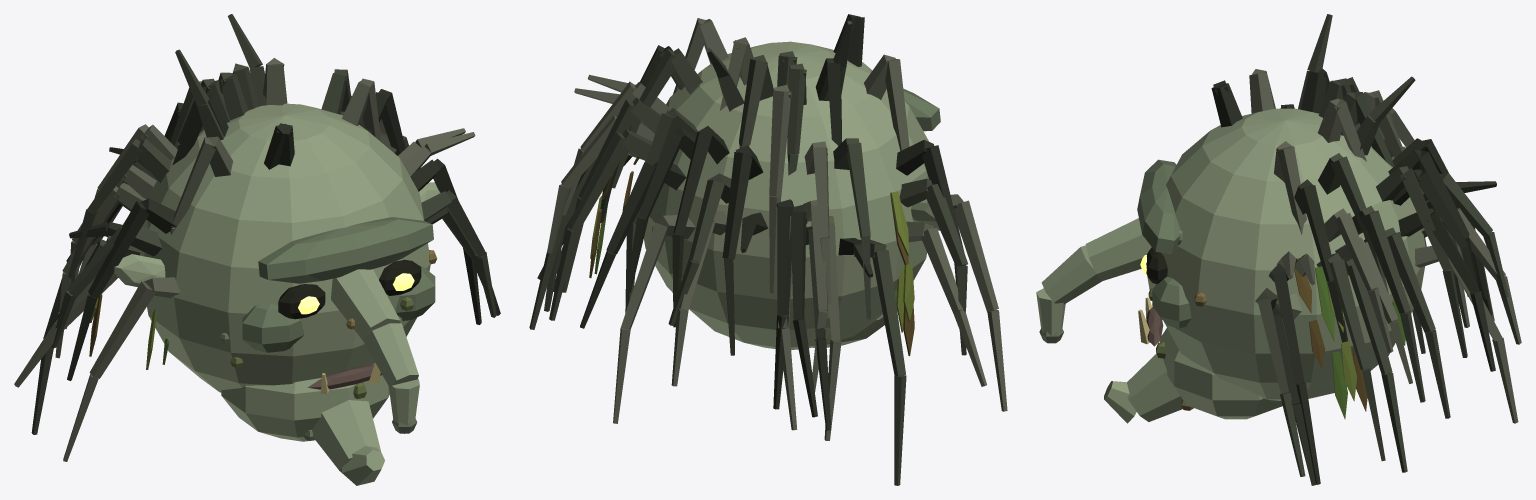
File: bog_hag_head.glb
3 views of the same model, side by side, from view 1: azimuth 30°, elevation 25°; view 2: azimuth 150°, elevation 25°; view 3: azimuth 270°, elevation 25° (orthographic). The views are drawn at different scales.
Visible parts, largest first — view 1: bog_hag_head; view 2: bog_hag_head; view 3: bog_hag_head.
Boxes of the visible parts, bbox=[...] form: bog_hag_head: bbox=[14, 14, 500, 485]; bog_hag_head: bbox=[529, 14, 1007, 485]; bog_hag_head: bbox=[1036, 14, 1521, 485].
Size of the model in its own units: 1.46 by 1.2 by 1.37.
